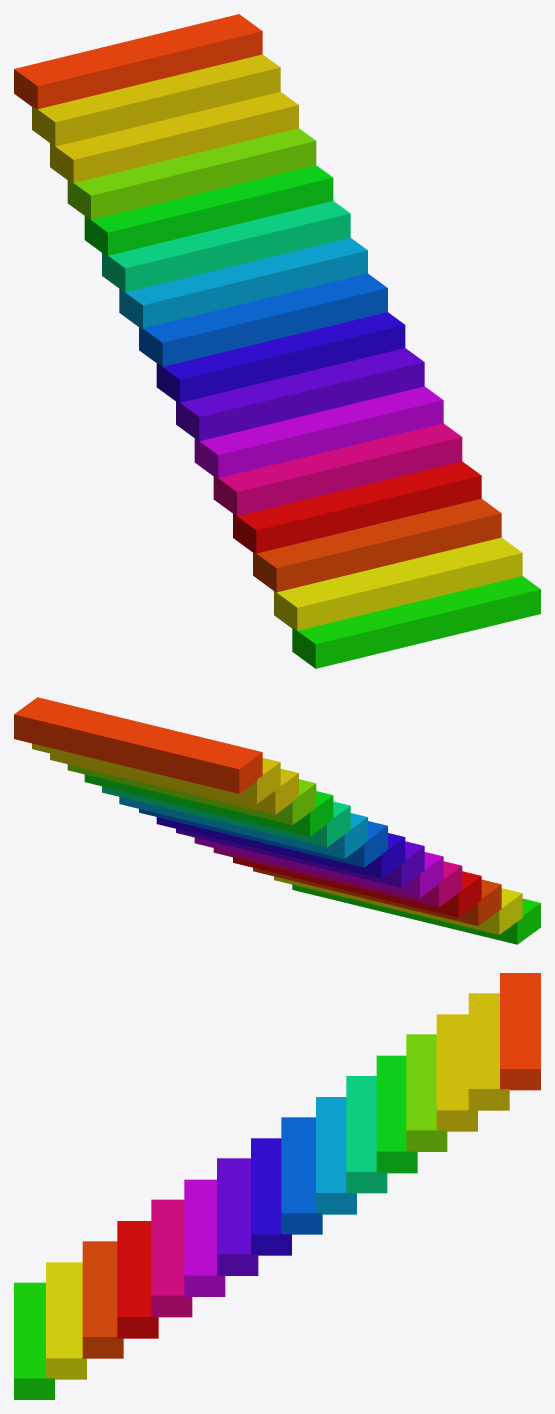
Rendered from towers.fbx.
The picture shows the model from 3 angles, top to bottom: view 1: azimuth 30°, elevation 25°; view 2: azimuth 150°, elevation 25°; view 3: azimuth 270°, elevation 25°; orthographic projection. The views are drawn at different scales.
Parts seen in each view (by area): view 1: 16, 3, 2, 9, 7, 5, 1, 4, 15, 6, 13, 11 (+4 smaller); view 2: 16, 12, 10, 8, 14, 11, 13, 6, 4, 15, 1, 5 (+4 smaller); view 3: 16, 2, 3, 4, 9, 5, 7, 6, 14, 15, 1, 12 (+4 smaller).
Boxes of the visible parts, x1,y1,x2,y2 form: 16: (14, 14, 262, 109); 3: (253, 498, 501, 592); 2: (274, 537, 522, 630); 9: (139, 273, 387, 366); 7: (176, 348, 424, 441); 5: (213, 423, 462, 516); 1: (292, 576, 540, 668); 4: (233, 461, 481, 553); 15: (32, 54, 280, 146); 6: (194, 386, 443, 477); 13: (67, 128, 316, 219); 11: (102, 201, 350, 292); 16: (14, 697, 262, 793); 12: (84, 774, 333, 836); 10: (119, 797, 367, 858); 8: (156, 817, 405, 878); 14: (50, 753, 298, 814); 11: (102, 786, 350, 847); 13: (67, 764, 316, 825); 6: (194, 837, 443, 898); 4: (233, 857, 481, 917); 15: (32, 743, 280, 803); 1: (292, 884, 540, 944); 5: (213, 848, 462, 907); 16: (500, 973, 540, 1090); 2: (46, 1262, 86, 1379); 3: (82, 1241, 123, 1358); 4: (117, 1221, 158, 1338); 9: (281, 1117, 322, 1234); 5: (151, 1199, 192, 1317); 7: (217, 1158, 258, 1275); 6: (184, 1179, 225, 1296); 14: (436, 1014, 477, 1131); 15: (468, 993, 509, 1110); 1: (14, 1282, 54, 1399); 12: (376, 1055, 417, 1173).
Size of the model in its own units: 507 by 815 by 1176.
